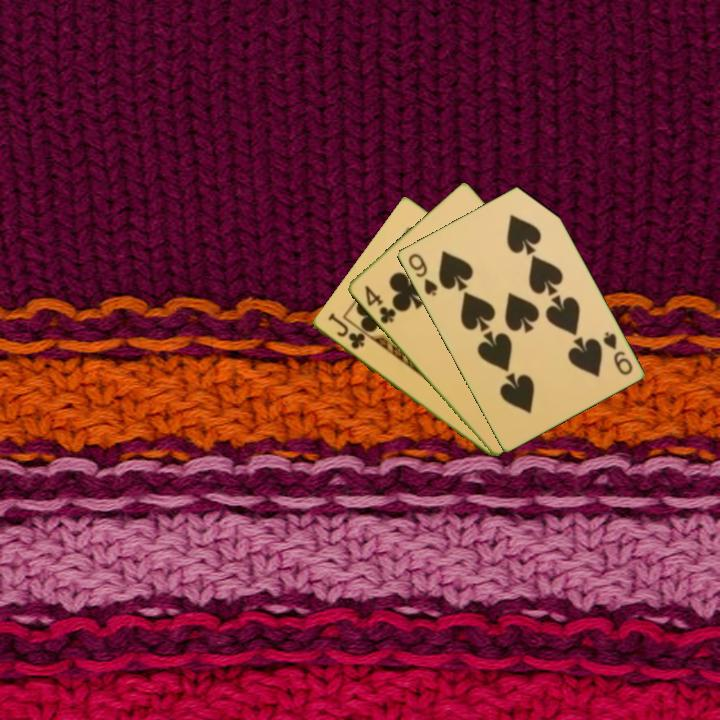4c: (361, 282, 399, 327)
9s: (599, 328, 635, 378), (404, 250, 440, 299)
Jc: (324, 310, 368, 352)
